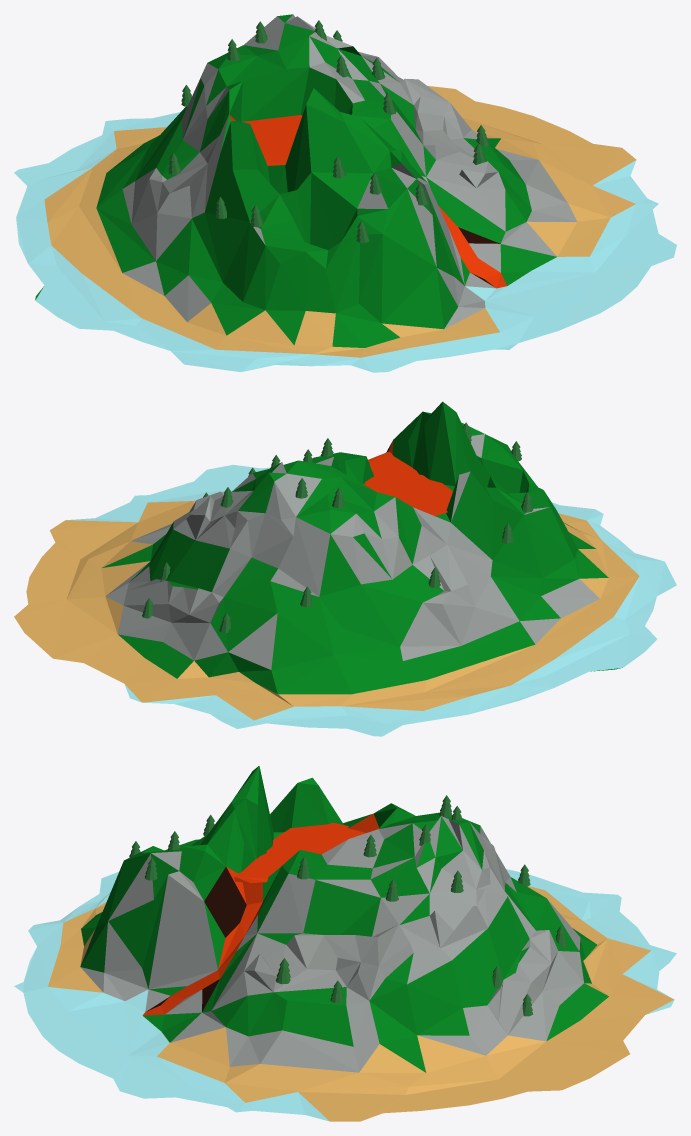
Rendered from island-summer-isolate.glb.
The picture shows the model from 3 angles, top to bottom: view 1: azimuth 30°, elevation 25°; view 2: azimuth 150°, elevation 25°; view 3: azimuth 270°, elevation 25°; orthographic projection. The views are drawn at different scales.
Visible parts, largest first — view 1: island; view 2: island; view 3: island.
Boxes of the visible parts, bbox=[...] form: island: bbox=[14, 14, 676, 372]; island: bbox=[14, 401, 676, 736]; island: bbox=[14, 766, 676, 1121].
Size of the model in its own units: 6.67 by 2.03 by 6.53.
